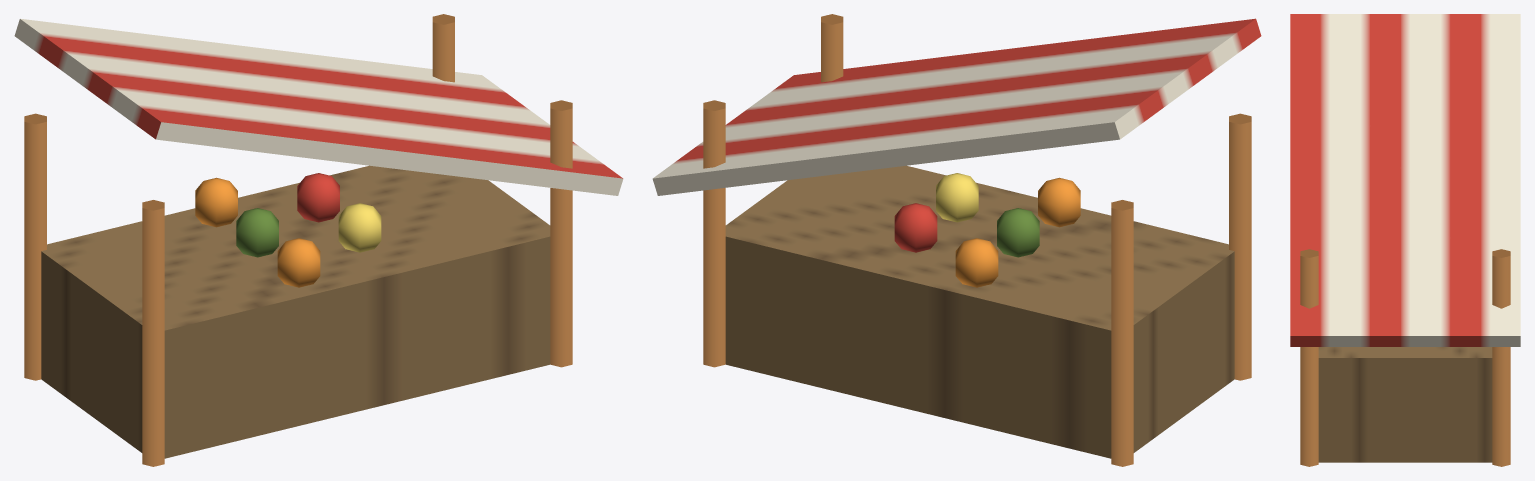
File: prop_stall0_94eb.glb
3 views of the same model, side by side, from view 1: azimuth 30°, elevation 25°; view 2: azimuth 150°, elevation 25°; view 3: azimuth 270°, elevation 25° (orthographic). The views are drawn at different scales.
Visible parts, largest first — view 1: prop_stall0_94eb; view 2: prop_stall0_94eb; view 3: prop_stall0_94eb.
Part boxes in pixels (box(x1,y1,x2,y2)): prop_stall0_94eb: box(14, 14, 623, 466); prop_stall0_94eb: box(652, 14, 1261, 466); prop_stall0_94eb: box(1290, 14, 1520, 466).
Bounding box in the file's own units: 2.03 × 1.44 × 1.06.
2 materials, 2 textured.
